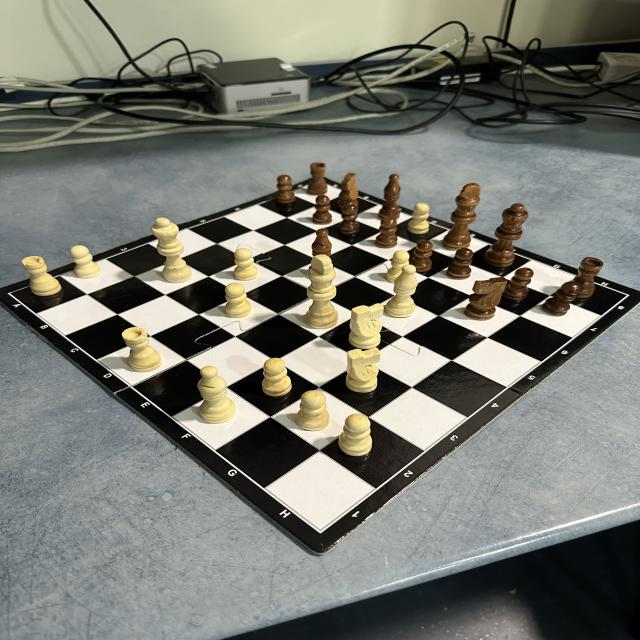Black-Bishop: (378, 174, 402, 218), (310, 229, 332, 272)
Black-King: (482, 202, 530, 268)
Black-Knight: (463, 276, 507, 320), (336, 172, 359, 210)
Black-Pawn: (542, 280, 583, 316), (505, 267, 535, 301), (445, 248, 475, 280), (374, 217, 400, 248), (411, 240, 434, 272), (338, 203, 361, 235), (274, 175, 297, 204), (311, 195, 333, 225)
Black-Queen: (438, 182, 482, 250)
Black-Rook: (573, 256, 605, 298), (307, 162, 328, 195)
White-Bishop: (196, 366, 238, 424), (386, 264, 418, 318)
White-King: (151, 216, 192, 284)
White-Knight: (348, 304, 386, 349), (346, 347, 380, 392)
White-Pawn: (338, 412, 372, 456), (296, 390, 328, 430), (261, 357, 293, 397), (70, 242, 102, 279), (225, 282, 252, 318), (233, 247, 258, 281), (385, 250, 410, 283), (408, 203, 430, 235)
White-Queen: (305, 253, 339, 329)
White-Rook: (122, 328, 163, 371), (22, 255, 64, 296)
